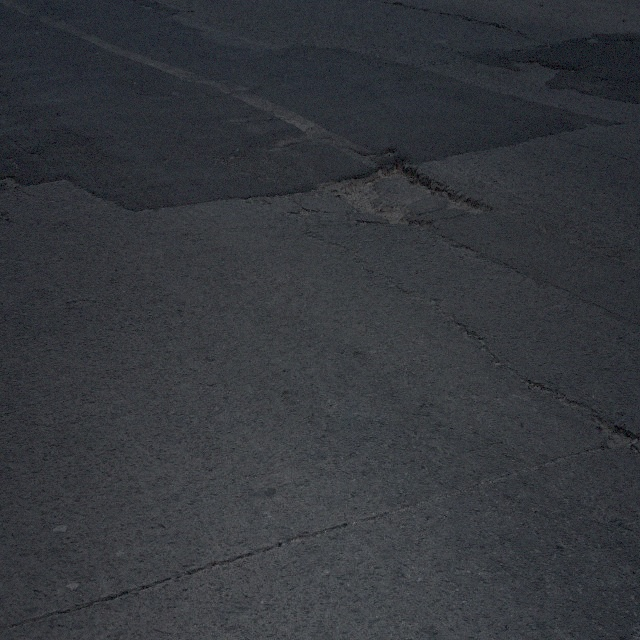pothole: (318, 158, 492, 224), (599, 406, 636, 457)
